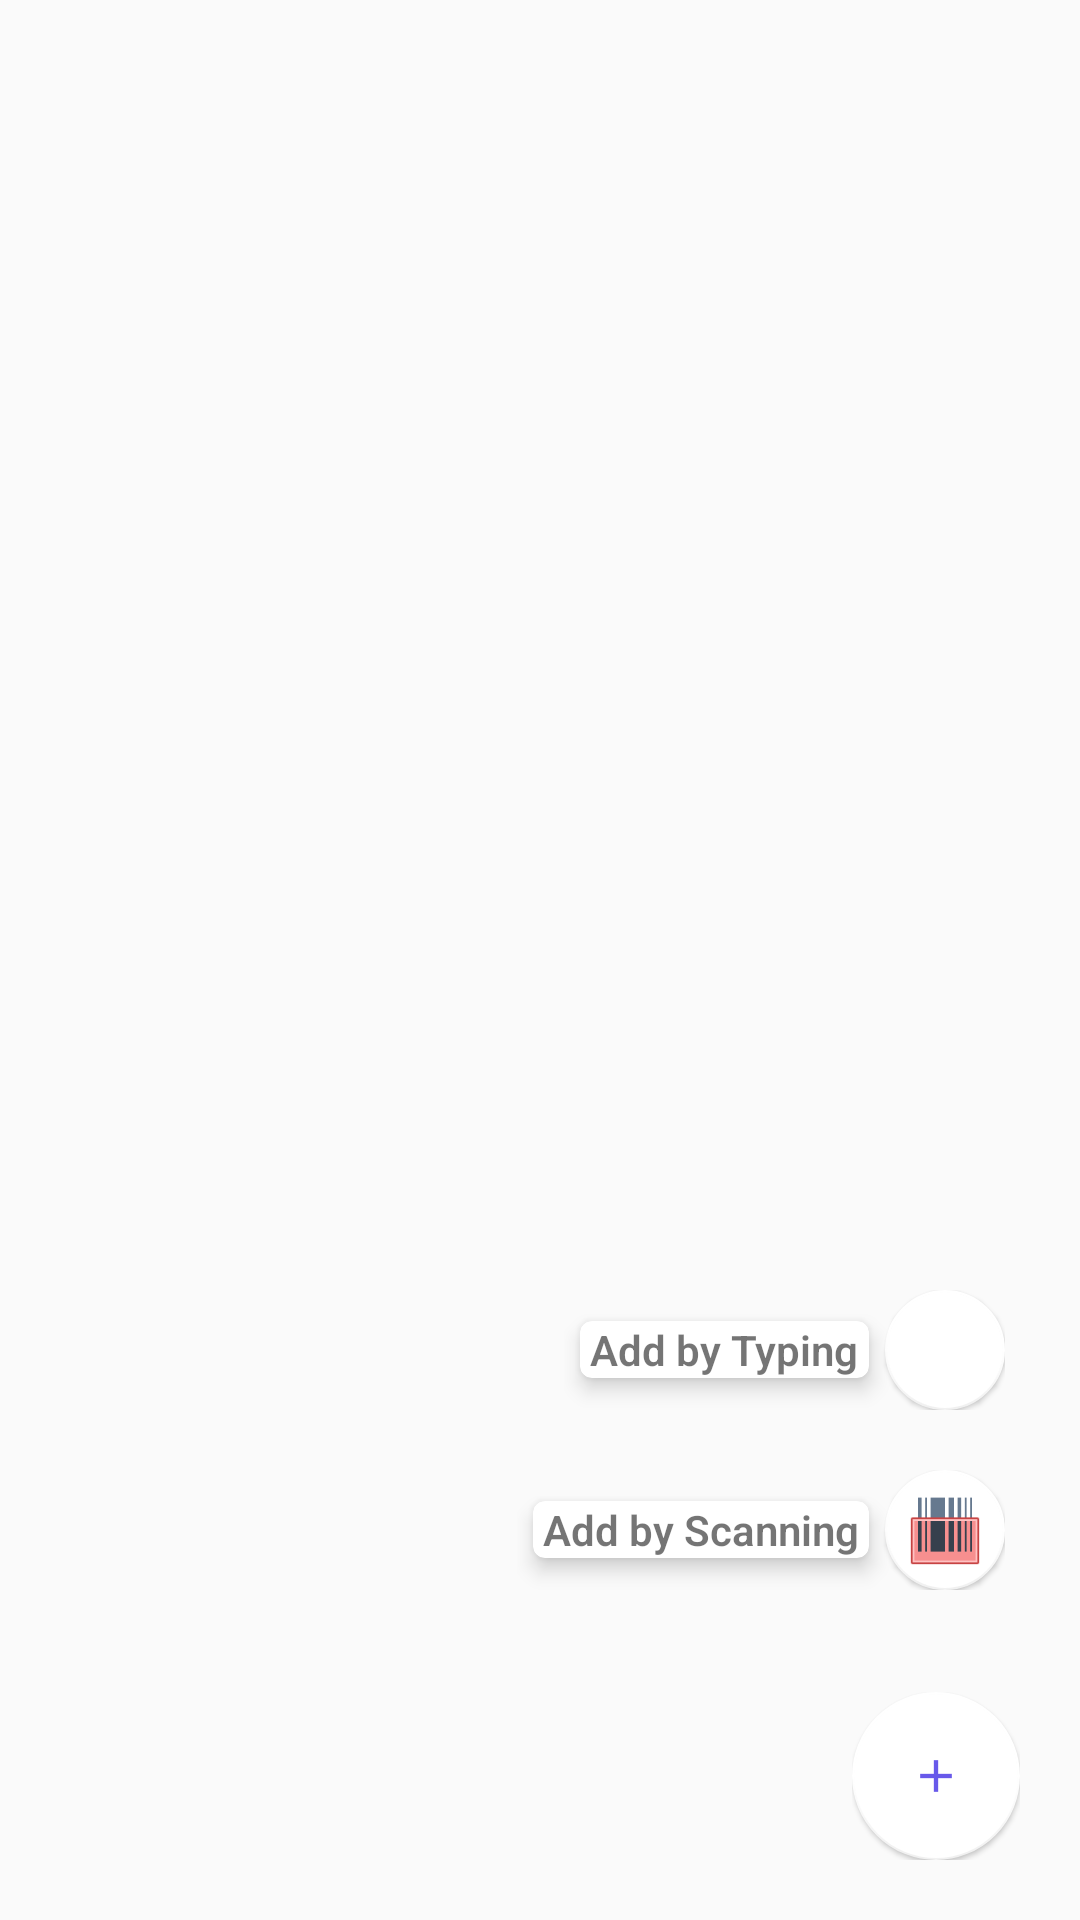

Icon click points for this 1080*1920 phone screenshot, format (x=x, y=y):
barcode scanner: (x=949, y=1543)
